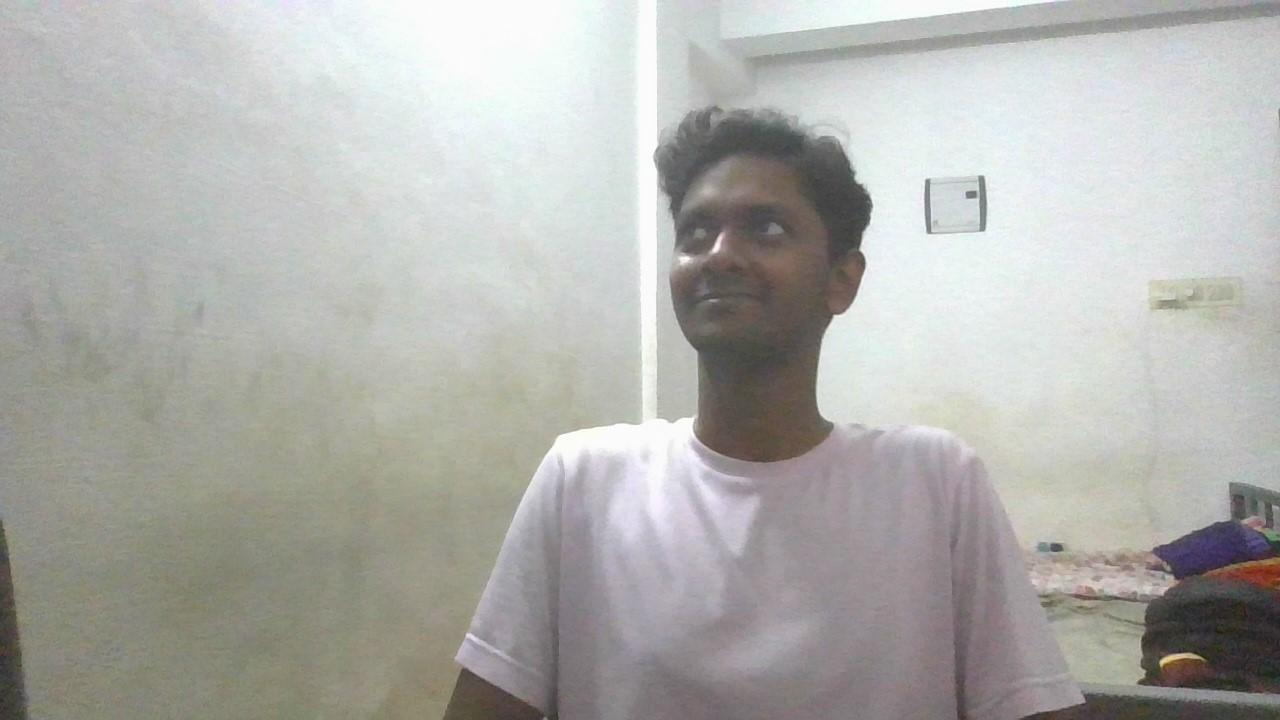nohelmet: (654, 103, 873, 369)
